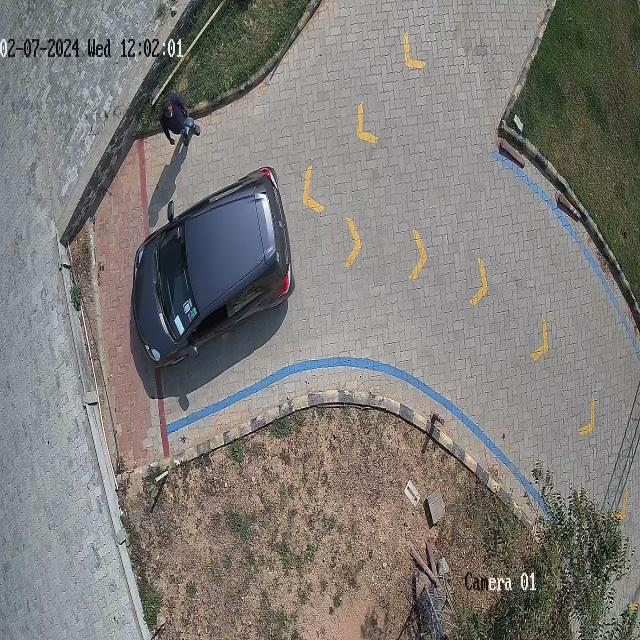car: (131, 167, 294, 367)
